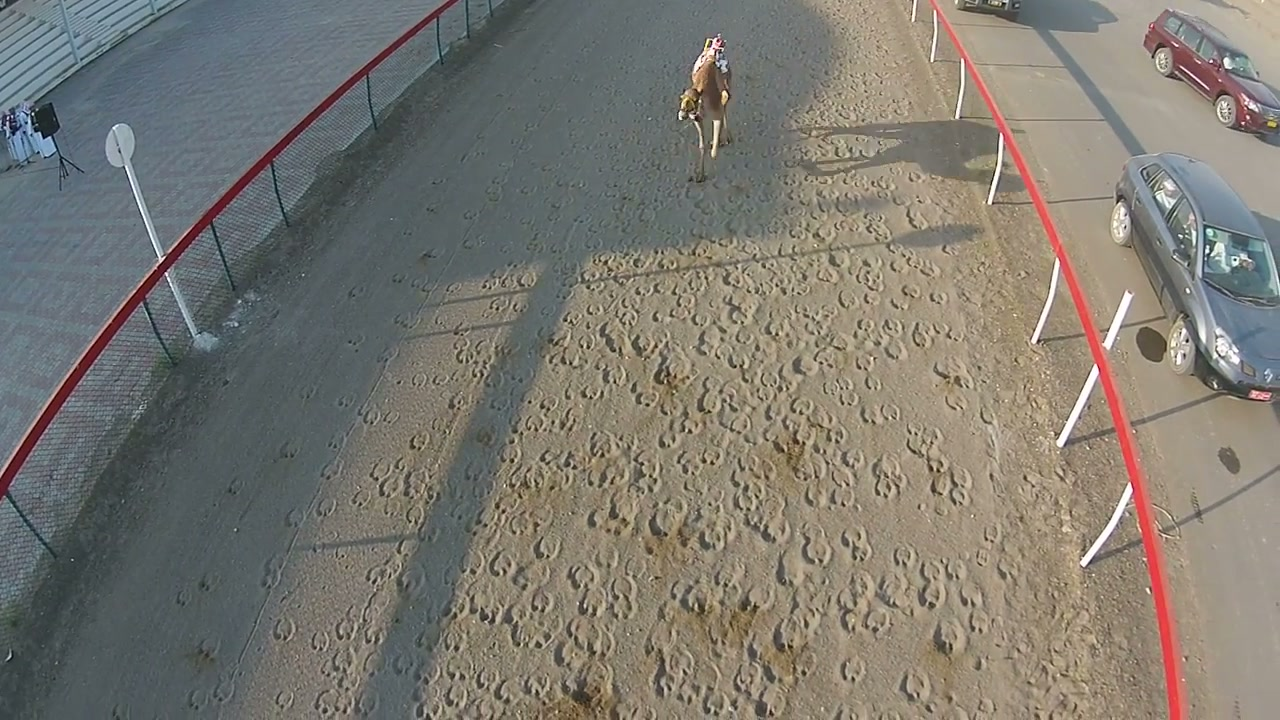animal_footprint: (163, 0, 1110, 719)
